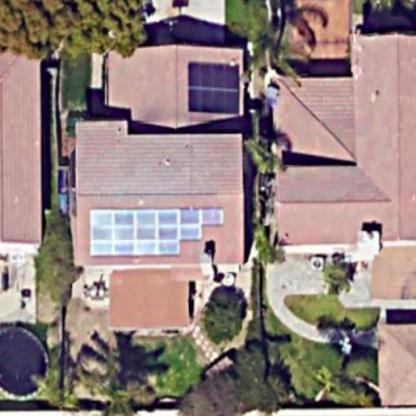solar_panel: (80, 204, 231, 259), (184, 54, 253, 128)
